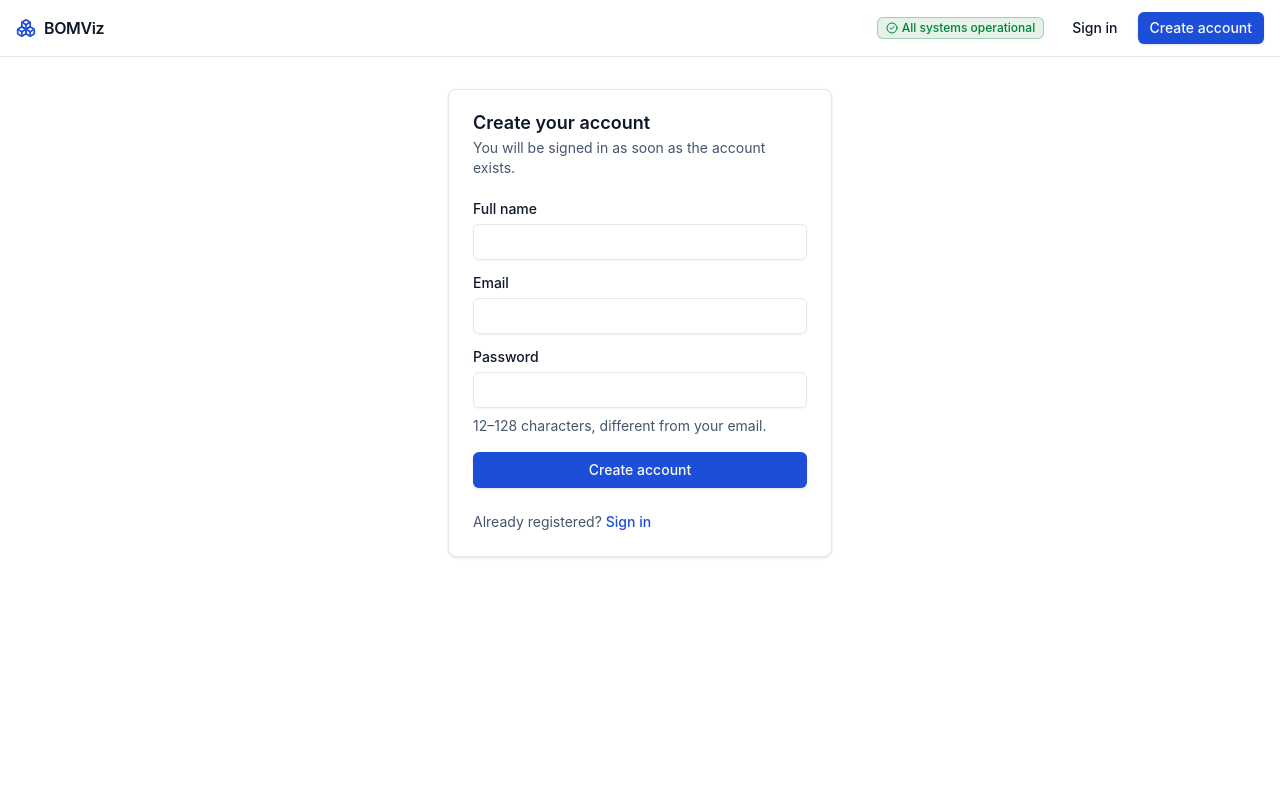
Test: RegisterPage › rejects a password equal to the email and an empty name
The width and height of the screenshot is (1280, 800).
Type "ada.lovelace@example.com" into the field labelled "Email". click: (640, 316)
box: [473,298,807,334]
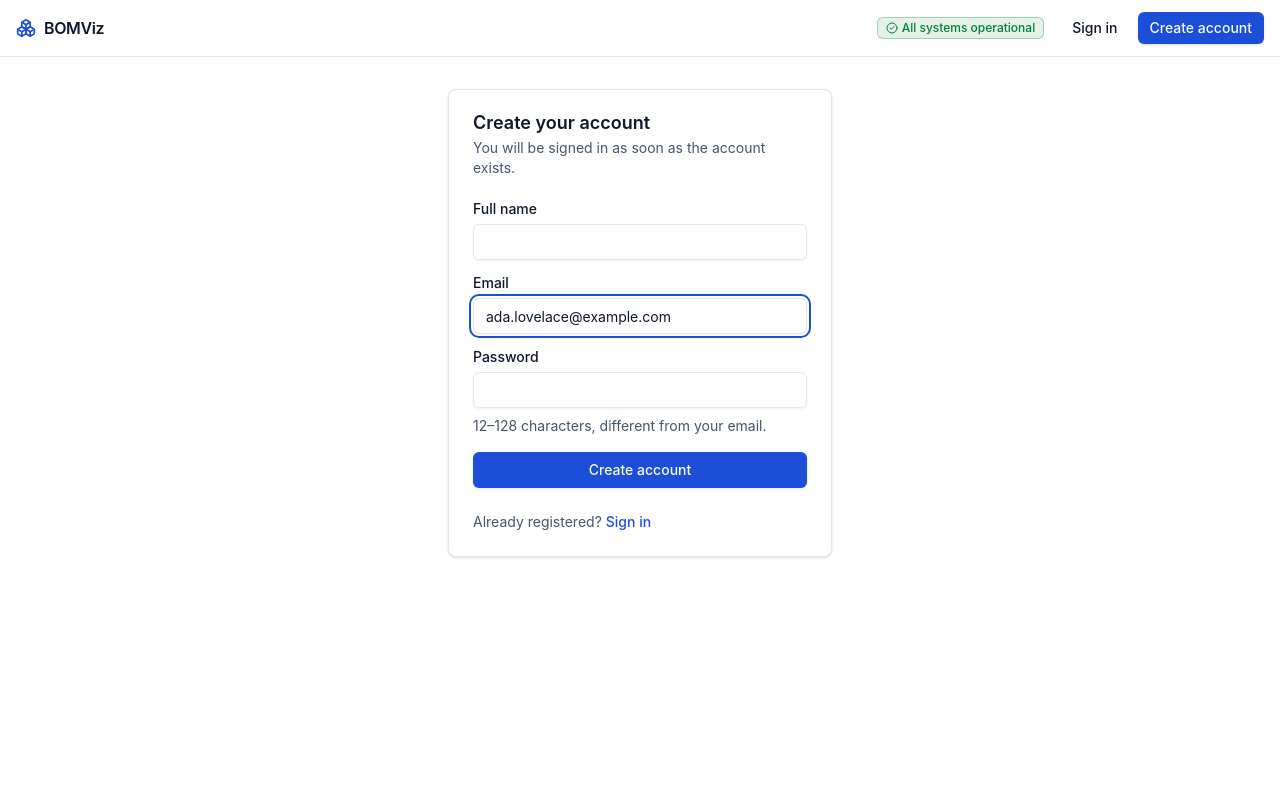
Type "ada.lovelace@example.com" into the password field labelled "Password". click: (640, 390)
box: [473,372,807,408]
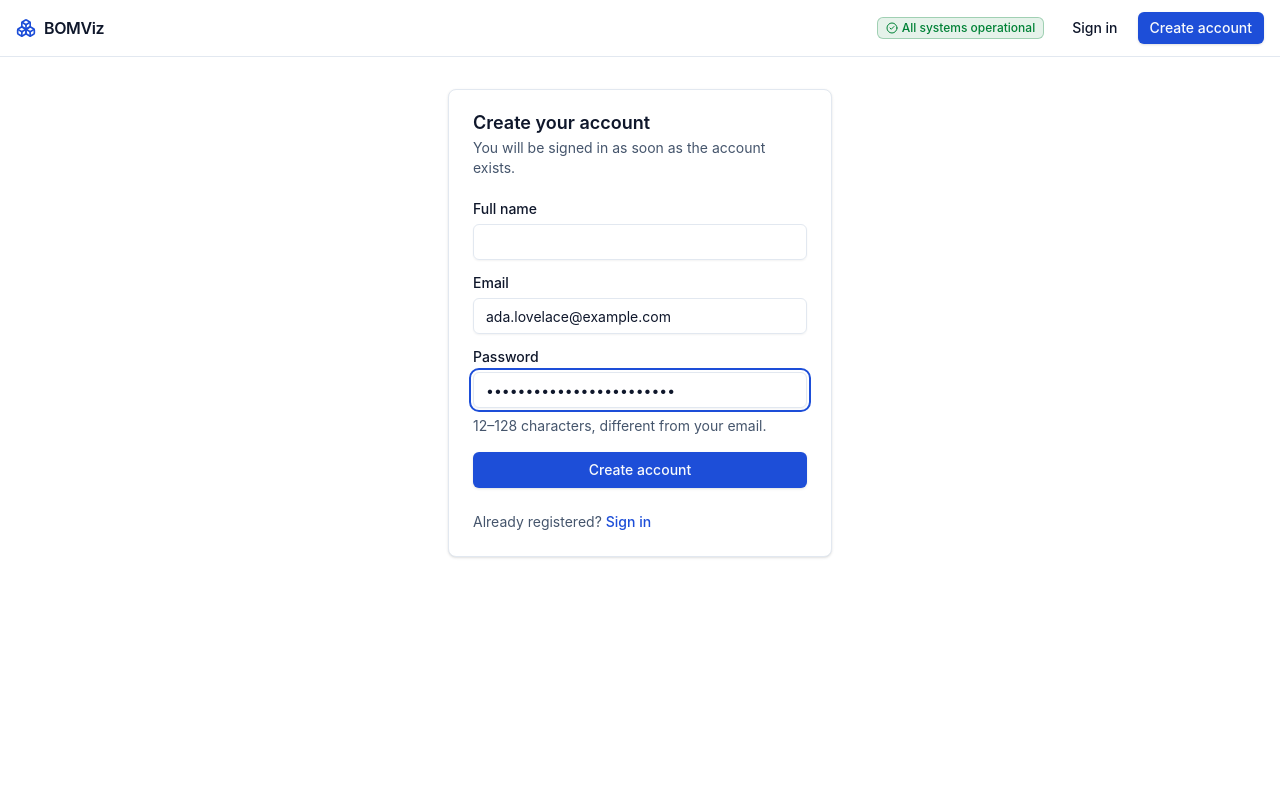
Click the button "Create account". click: click(640, 470)
box: [473,452,807,488]
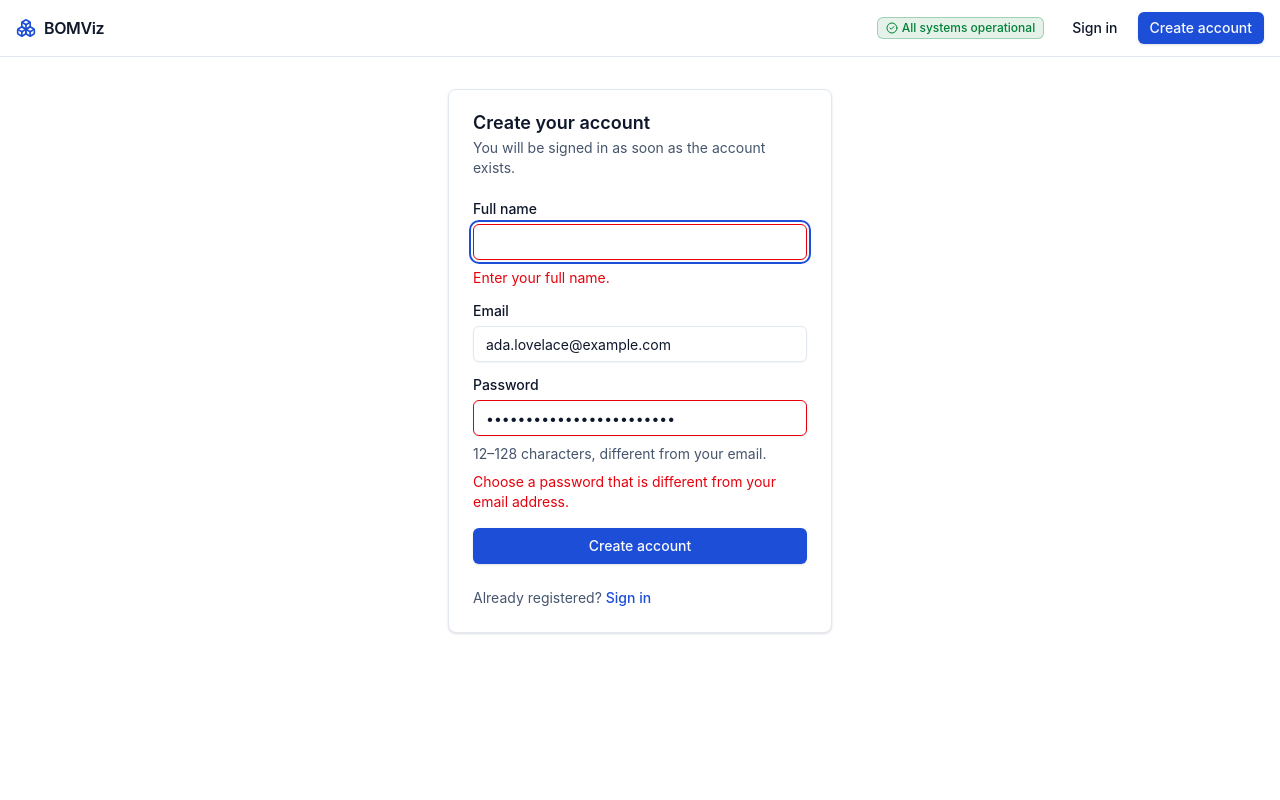
Expected: the text "Enter your full name." is shown, [473,269,610,286]
Expected: the text "Choose a password that is different from your email address." is shown, [473,472,807,512]
